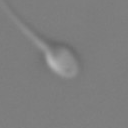normal: (1, 1, 49, 48)
